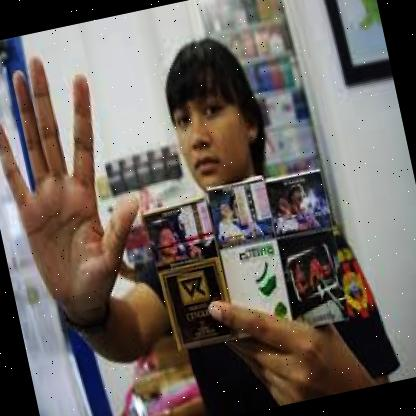bungkus rokok: (260, 156, 358, 330), (141, 192, 238, 349), (206, 177, 295, 345)
